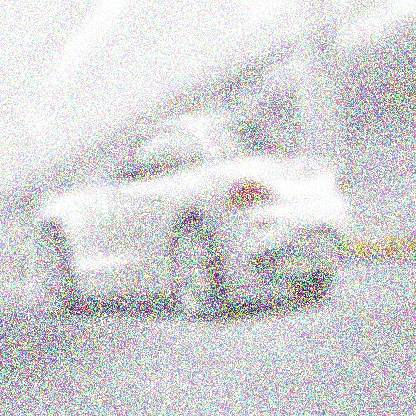Vehicle: (23, 96, 358, 330)
